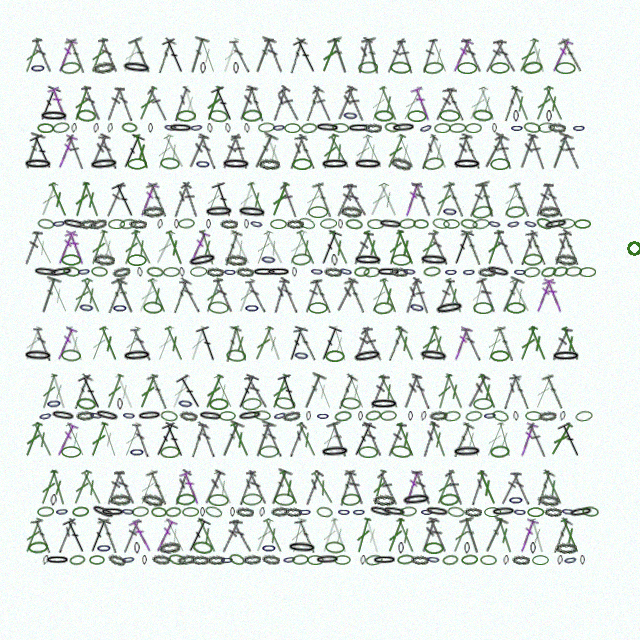chain: (187, 251, 218, 269), (434, 300, 465, 316), (352, 348, 383, 364), (90, 503, 116, 521), (121, 60, 152, 75), (418, 348, 449, 363), (401, 492, 432, 507), (89, 157, 119, 171), (237, 205, 267, 219), (419, 253, 449, 267), (389, 155, 413, 172), (204, 205, 234, 218), (485, 264, 511, 279), (23, 349, 53, 362), (122, 349, 152, 362), (94, 408, 120, 423), (320, 445, 350, 458), (452, 445, 482, 458), (368, 504, 394, 519), (287, 541, 317, 554), (471, 204, 494, 220), (141, 492, 164, 508), (61, 217, 87, 231), (543, 217, 569, 231), (48, 265, 74, 279), (568, 505, 594, 519), (39, 110, 69, 122), (23, 158, 53, 170), (221, 158, 251, 170), (320, 158, 350, 170), (353, 158, 383, 170), (452, 158, 482, 170), (353, 254, 383, 266), (551, 350, 581, 362), (369, 398, 399, 410), (92, 60, 115, 75), (158, 540, 181, 555), (50, 409, 76, 422), (237, 409, 263, 422), (381, 505, 407, 518), (424, 505, 450, 518), (274, 396, 296, 411), (390, 444, 412, 459), (537, 493, 560, 507), (522, 60, 543, 75), (423, 156, 444, 171), (192, 540, 213, 555), (378, 218, 403, 230), (33, 266, 58, 278), (198, 410, 223, 422), (60, 61, 81, 75), (423, 61, 444, 75), (208, 109, 229, 123), (505, 205, 526, 219), (373, 301, 394, 315), (76, 397, 97, 411), (241, 397, 262, 411), (142, 205, 164, 218), (340, 205, 362, 218), (538, 205, 560, 218), (93, 253, 115, 266), (555, 253, 577, 266), (109, 493, 131, 506), (297, 216, 316, 231), (535, 216, 554, 231), (88, 217, 108, 231), (107, 553, 127, 567), (315, 122, 340, 133), (391, 122, 416, 133), (137, 410, 162, 421), (491, 506, 516, 517), (315, 554, 340, 565), (390, 61, 411, 74), (76, 109, 97, 122), (439, 109, 460, 122), (472, 109, 493, 122), (291, 253, 312, 266), (208, 301, 229, 314), (340, 397, 361, 410), (274, 493, 295, 506), (439, 493, 460, 506), (408, 300, 426, 315), (228, 552, 246, 567), (112, 265, 131, 279), (282, 409, 301, 423), (491, 409, 510, 423), (204, 505, 223, 519), (258, 158, 280, 170), (225, 254, 247, 266), (373, 494, 395, 506), (555, 542, 577, 554), (358, 61, 378, 74), (242, 109, 262, 122), (160, 157, 180, 170), (523, 253, 543, 266), (143, 301, 163, 314), (61, 349, 81, 362), (226, 349, 246, 362), (259, 445, 279, 458), (490, 445, 510, 458), (176, 493, 196, 506), (242, 493, 262, 506), (341, 493, 361, 506), (28, 541, 48, 554), (325, 541, 345, 554), (555, 62, 576, 74), (540, 265, 558, 279), (208, 494, 229, 506), (168, 123, 193, 133), (347, 123, 372, 133), (252, 267, 277, 277), (266, 267, 291, 277), (376, 267, 401, 277), (100, 507, 125, 517), (45, 555, 70, 565), (372, 555, 397, 565), (177, 553, 196, 566), (457, 62, 477, 74), (490, 62, 510, 74), (176, 110, 196, 122), (374, 110, 394, 122), (407, 110, 427, 122), (127, 158, 147, 170), (292, 158, 312, 170), (490, 158, 510, 170), (308, 206, 328, 218), (61, 254, 81, 266), (127, 254, 147, 266), (391, 254, 411, 266), (308, 302, 328, 314), (473, 302, 493, 314), (506, 302, 526, 314), (325, 350, 345, 362), (490, 350, 510, 362), (209, 398, 229, 410), (473, 398, 493, 410), (61, 446, 81, 458), (160, 446, 180, 458), (358, 446, 378, 458), (424, 542, 444, 554), (52, 121, 70, 134), (523, 121, 541, 134), (432, 217, 450, 230), (168, 553, 186, 566), (78, 218, 97, 230), (179, 410, 198, 422), (538, 410, 557, 422), (418, 121, 434, 135), (342, 109, 359, 122), (260, 253, 277, 266), (552, 265, 569, 278), (78, 301, 95, 314), (293, 349, 310, 362), (177, 397, 194, 410), (365, 409, 382, 422), (300, 122, 318, 134), (37, 218, 55, 230), (119, 218, 137, 230), (345, 218, 363, 230), (460, 218, 478, 230), (472, 218, 490, 230), (146, 266, 164, 278), (363, 266, 381, 278), (523, 266, 541, 278), (160, 410, 178, 422), (334, 410, 352, 422), (443, 410, 461, 422), (465, 410, 483, 422), (575, 410, 593, 422), (447, 506, 465, 518), (365, 554, 383, 566), (429, 410, 448, 421), (442, 205, 458, 218), (338, 265, 354, 278), (46, 397, 62, 410), (272, 409, 288, 422), (165, 506, 182, 518), (316, 506, 333, 518), (69, 554, 86, 566), (442, 554, 459, 566), (548, 122, 566, 133), (423, 266, 441, 277), (76, 410, 94, 421), (271, 506, 289, 517), (152, 554, 170, 565), (243, 554, 261, 565), (262, 554, 280, 565), (30, 62, 46, 74), (195, 158, 211, 170), (112, 302, 128, 314), (244, 302, 260, 314), (129, 446, 145, 458), (508, 494, 524, 506), (96, 542, 112, 554), (261, 542, 277, 554), (121, 122, 138, 133), (258, 122, 275, 133), (384, 122, 401, 133), (538, 122, 555, 133), (178, 218, 195, 229), (320, 218, 337, 229), (399, 218, 416, 229), (558, 218, 575, 229), (63, 266, 80, 277), (91, 266, 108, 277), (190, 266, 207, 277), (565, 266, 582, 277), (254, 410, 271, 421), (380, 410, 397, 421), (37, 506, 54, 517), (72, 506, 89, 517), (132, 506, 149, 517), (400, 506, 417, 517), (582, 506, 599, 517), (292, 554, 309, 565), (397, 554, 414, 565), (461, 554, 478, 565), (364, 123, 382, 133), (129, 219, 147, 229), (220, 219, 238, 229), (249, 218, 264, 230), (286, 219, 304, 229), (487, 218, 502, 230), (506, 218, 521, 230), (523, 218, 538, 230), (206, 267, 224, 277), (236, 267, 254, 277), (324, 267, 342, 277), (390, 267, 408, 277), (478, 267, 496, 277), (38, 410, 53, 422), (236, 507, 254, 517), (284, 507, 302, 517), (464, 507, 482, 517), (544, 507, 562, 517), (191, 555, 209, 565), (207, 555, 225, 565), (411, 555, 429, 565), (512, 555, 530, 565), (563, 554, 578, 566), (354, 266, 370, 277), (37, 123, 54, 133), (284, 123, 301, 133), (332, 123, 349, 133), (434, 123, 451, 133), (449, 123, 466, 133), (465, 123, 482, 133), (108, 219, 125, 229), (270, 219, 287, 229), (367, 219, 384, 229), (443, 219, 460, 229), (574, 219, 591, 229), (163, 267, 180, 277), (579, 267, 596, 277), (219, 411, 236, 421), (525, 411, 542, 421), (182, 507, 199, 517), (484, 507, 501, 517), (527, 507, 544, 517), (307, 555, 324, 565), (334, 555, 351, 565), (480, 555, 497, 565), (532, 555, 549, 565), (163, 122, 178, 133), (189, 122, 204, 133), (402, 266, 417, 277), (89, 410, 104, 421), (121, 554, 136, 565), (282, 554, 297, 565), (426, 554, 441, 565), (413, 219, 429, 229), (151, 507, 167, 517), (89, 555, 105, 565), (272, 122, 286, 133), (52, 218, 66, 229), (77, 266, 91, 277), (310, 266, 324, 277), (122, 410, 136, 421), (483, 410, 497, 421), (55, 506, 69, 517), (121, 506, 135, 517), (561, 506, 575, 517), (510, 123, 524, 133), (572, 123, 586, 133), (223, 267, 237, 277), (444, 267, 458, 277), (462, 267, 476, 277), (513, 267, 527, 277), (316, 411, 330, 421), (298, 507, 312, 517), (337, 507, 351, 517), (352, 507, 366, 517), (420, 507, 434, 517), (513, 507, 527, 517), (220, 555, 234, 565), (331, 254, 338, 266), (50, 494, 57, 506), (200, 62, 206, 74), (233, 62, 239, 74), (513, 110, 519, 122), (546, 110, 552, 122), (117, 398, 123, 410), (134, 542, 140, 554), (398, 542, 404, 554), (464, 542, 470, 554), (530, 542, 536, 554), (420, 411, 427, 421), (559, 411, 566, 421), (42, 555, 49, 565), (71, 123, 77, 133), (93, 123, 99, 133), (107, 123, 113, 133), (207, 123, 213, 133), (225, 123, 231, 133), (244, 123, 250, 133), (157, 219, 163, 229), (137, 267, 143, 277), (179, 267, 185, 277), (513, 411, 519, 421), (259, 507, 265, 517), (360, 555, 366, 565), (503, 555, 509, 565), (557, 555, 563, 565), (148, 123, 153, 133), (492, 123, 497, 133), (174, 219, 179, 229), (206, 219, 211, 229), (244, 219, 249, 229), (338, 219, 343, 229), (292, 267, 297, 277), (306, 411, 311, 421), (358, 411, 363, 421), (408, 411, 413, 421), (200, 507, 205, 517), (230, 507, 235, 517), (142, 555, 147, 565), (580, 555, 585, 565)
double: (479, 132, 510, 171), (175, 373, 206, 411), (249, 132, 279, 171), (480, 516, 509, 555), (292, 37, 321, 75), (77, 373, 106, 411), (183, 517, 212, 555), (128, 36, 156, 75), (111, 276, 139, 315), (497, 276, 525, 315), (299, 372, 327, 411), (217, 420, 245, 459), (233, 372, 260, 412), (161, 37, 189, 75), (210, 85, 238, 123), (29, 133, 57, 171), (118, 133, 146, 171), (111, 181, 139, 219), (151, 421, 179, 459), (161, 421, 189, 459), (349, 421, 377, 459), (557, 421, 585, 459), (62, 517, 90, 555), (250, 36, 277, 75), (547, 132, 574, 171), (250, 420, 277, 459), (326, 420, 353, 459), (266, 468, 293, 507), (557, 37, 585, 74), (547, 421, 575, 458), (309, 469, 337, 506), (35, 85, 62, 123), (316, 229, 343, 267), (293, 325, 320, 363), (316, 325, 343, 363), (448, 421, 475, 459), (85, 517, 112, 555), (327, 36, 353, 75), (20, 132, 46, 171), (36, 276, 62, 315), (459, 516, 485, 555), (161, 133, 188, 170), (326, 133, 353, 170), (29, 229, 56, 266), (507, 277, 534, 314), (464, 373, 491, 410), (128, 517, 155, 554), (442, 85, 468, 123), (211, 181, 237, 219), (449, 229, 475, 267), (102, 277, 128, 315), (195, 325, 221, 363), (383, 325, 409, 363), (333, 373, 359, 411), (548, 517, 574, 555), (185, 36, 210, 75), (475, 180, 500, 219), (515, 37, 541, 74), (548, 37, 574, 74), (399, 85, 425, 122), (465, 85, 491, 122), (541, 85, 567, 122), (360, 133, 386, 170), (300, 181, 326, 218), (366, 181, 392, 218), (129, 229, 155, 266), (152, 229, 178, 266), (185, 229, 211, 266), (228, 229, 254, 266), (261, 229, 287, 266), (69, 277, 95, 314), (333, 277, 359, 314), (376, 373, 402, 410), (30, 421, 56, 458), (53, 421, 79, 458), (294, 421, 320, 458), (79, 469, 105, 506), (152, 517, 178, 554), (162, 517, 188, 554), (294, 133, 319, 171), (459, 133, 484, 171), (145, 181, 170, 219), (442, 181, 467, 219), (508, 181, 533, 219), (525, 229, 550, 267), (558, 229, 583, 267), (168, 277, 193, 315), (310, 277, 335, 315), (343, 277, 368, 315), (284, 325, 309, 363), (69, 373, 94, 411), (277, 373, 302, 411), (541, 373, 566, 411), (145, 469, 170, 507), (30, 517, 55, 555), (294, 517, 319, 555), (119, 37, 144, 74), (449, 37, 474, 74), (135, 85, 160, 122), (185, 133, 210, 170), (383, 133, 408, 170), (46, 181, 71, 218), (376, 181, 401, 218), (432, 181, 457, 218), (294, 229, 319, 266), (327, 229, 352, 266), (46, 277, 71, 314), (79, 277, 104, 314), (135, 277, 160, 314), (145, 277, 170, 314), (53, 325, 78, 362), (162, 325, 187, 362), (251, 325, 276, 362), (393, 325, 418, 362), (168, 373, 193, 410), (201, 373, 226, 410), (211, 373, 236, 410), (531, 373, 556, 410), (63, 421, 88, 458), (228, 421, 253, 458), (482, 421, 507, 458), (201, 469, 226, 506), (211, 469, 236, 506), (277, 469, 302, 506), (475, 469, 500, 506), (541, 469, 566, 506), (195, 517, 220, 554), (261, 517, 286, 554), (426, 517, 451, 554), (449, 517, 474, 554), (558, 517, 583, 554), (64, 37, 88, 75), (153, 37, 177, 75), (361, 37, 385, 75), (301, 85, 325, 123), (499, 85, 523, 123), (311, 181, 335, 219), (219, 229, 243, 267), (460, 229, 484, 267), (493, 325, 517, 363), (146, 373, 170, 411), (509, 373, 533, 411), (186, 421, 210, 459), (532, 469, 556, 507), (277, 86, 302, 122), (343, 182, 368, 218), (360, 326, 385, 362), (244, 374, 269, 410), (376, 470, 401, 506), (54, 37, 78, 74), (318, 37, 342, 74), (427, 37, 451, 74), (47, 85, 71, 122), (334, 85, 358, 122), (377, 85, 401, 122), (410, 85, 434, 122), (509, 85, 533, 122), (532, 85, 556, 122), (54, 133, 78, 170), (87, 133, 111, 170), (262, 133, 286, 170), (351, 133, 375, 170), (394, 133, 418, 170), (427, 133, 451, 170), (37, 181, 61, 218), (136, 181, 160, 218), (245, 181, 269, 218), (268, 181, 292, 218), (499, 181, 523, 218), (54, 229, 78, 266), (64, 229, 88, 266), (163, 229, 187, 266), (285, 229, 309, 266), (361, 229, 385, 266), (394, 229, 418, 266), (417, 229, 441, 266), (367, 277, 391, 314), (377, 277, 401, 314), (476, 277, 500, 314), (532, 277, 556, 314), (542, 277, 566, 314), (21, 325, 45, 362), (87, 325, 111, 362), (97, 325, 121, 362), (153, 325, 177, 362), (417, 325, 441, 362), (516, 325, 540, 362), (526, 325, 550, 362), (559, 325, 583, 362), (113, 373, 137, 410), (136, 373, 160, 410), (268, 373, 292, 410), (311, 373, 335, 410), (344, 373, 368, 410), (443, 373, 467, 410), (476, 373, 500, 410), (21, 421, 45, 458), (120, 421, 144, 458), (394, 421, 418, 458), (70, 469, 94, 506), (179, 469, 203, 506), (344, 469, 368, 506), (433, 469, 457, 506), (21, 517, 45, 554), (252, 517, 276, 554), (394, 517, 418, 554), (285, 37, 308, 75), (245, 85, 268, 123), (334, 469, 357, 507), (97, 517, 120, 555), (483, 38, 507, 74), (493, 38, 517, 74), (146, 86, 170, 122), (433, 86, 457, 122), (559, 134, 583, 170), (549, 326, 573, 362), (219, 518, 243, 554), (229, 518, 253, 554), (21, 37, 44, 74), (87, 37, 110, 74), (196, 37, 219, 74), (219, 37, 242, 74), (70, 85, 93, 122), (268, 85, 291, 122), (367, 85, 390, 122), (476, 85, 499, 122), (153, 133, 176, 170), (516, 133, 539, 170), (80, 181, 103, 218), (202, 181, 225, 218), (235, 181, 258, 218), (87, 229, 110, 266), (97, 229, 120, 266), (120, 229, 143, 266), (252, 229, 275, 266), (483, 229, 506, 266), (202, 277, 225, 314), (235, 277, 258, 314), (443, 277, 466, 314), (64, 325, 87, 362), (262, 325, 285, 362), (450, 325, 473, 362), (483, 325, 506, 362), (103, 373, 126, 410), (400, 373, 423, 410), (87, 421, 110, 458), (318, 421, 341, 458), (427, 421, 450, 458), (460, 421, 483, 458), (516, 421, 539, 458), (37, 469, 60, 506), (136, 469, 159, 506), (318, 517, 341, 554), (328, 517, 351, 554), (384, 517, 407, 554), (516, 517, 539, 554), (220, 325, 242, 363), (229, 38, 252, 74), (311, 86, 334, 122), (344, 86, 367, 122), (285, 134, 308, 170), (169, 182, 192, 218), (334, 182, 357, 218), (351, 230, 374, 266), (179, 278, 202, 314), (245, 278, 268, 314), (130, 326, 153, 362), (526, 422, 549, 458), (301, 470, 324, 506), (499, 470, 522, 506), (461, 37, 483, 74), (527, 37, 549, 74), (203, 85, 225, 122), (236, 85, 258, 122), (131, 133, 153, 170), (319, 133, 341, 170), (451, 133, 473, 170), (401, 181, 423, 218), (550, 229, 572, 266), (121, 325, 143, 362), (187, 325, 209, 362), (428, 325, 450, 362), (38, 373, 60, 410), (48, 373, 70, 410), (368, 373, 390, 410), (98, 421, 120, 458), (385, 421, 407, 458), (418, 421, 440, 458), (114, 469, 136, 506), (170, 469, 192, 506), (246, 469, 268, 506), (401, 469, 423, 506), (444, 469, 466, 506), (418, 517, 440, 554), (494, 517, 516, 554), (65, 134, 87, 170), (104, 182, 126, 218), (543, 182, 565, 218), (428, 230, 450, 266), (517, 230, 539, 266), (461, 326, 483, 362), (286, 422, 308, 458), (510, 470, 532, 506), (55, 518, 77, 554), (32, 37, 53, 74), (98, 37, 119, 74), (81, 85, 102, 122), (104, 85, 125, 122), (180, 85, 201, 122), (220, 133, 241, 170), (230, 133, 251, 170), (494, 133, 515, 170), (71, 181, 92, 218), (180, 181, 201, 218), (533, 181, 554, 218), (22, 229, 43, 266), (197, 229, 218, 266), (385, 229, 406, 266), (494, 229, 515, 266), (213, 277, 234, 314), (269, 277, 290, 314), (401, 277, 422, 314), (230, 325, 251, 362), (329, 325, 350, 362), (352, 325, 373, 362), (434, 373, 455, 410), (362, 421, 383, 458), (494, 421, 515, 458), (48, 469, 69, 506), (104, 469, 125, 506), (362, 517, 383, 554), (527, 517, 548, 554), (385, 38, 406, 74), (98, 134, 119, 170), (418, 134, 439, 170), (527, 134, 548, 170), (279, 182, 300, 218), (467, 182, 488, 218), (279, 278, 300, 314), (411, 278, 432, 314), (500, 374, 521, 410), (263, 422, 284, 458), (236, 470, 257, 506), (121, 518, 142, 554), (264, 37, 284, 74), (353, 37, 373, 74), (412, 181, 432, 218), (468, 277, 488, 314), (369, 469, 389, 506), (412, 469, 432, 506), (287, 517, 307, 554), (353, 517, 373, 554), (396, 38, 416, 74), (115, 86, 135, 122), (171, 86, 191, 122), (198, 134, 218, 170), (435, 278, 455, 314), (33, 326, 53, 362), (412, 374, 432, 410), (468, 470, 488, 506), (303, 277, 322, 314), (132, 422, 151, 458), (198, 422, 217, 458), (420, 37, 438, 74)
noise: (625, 239, 640, 258)
